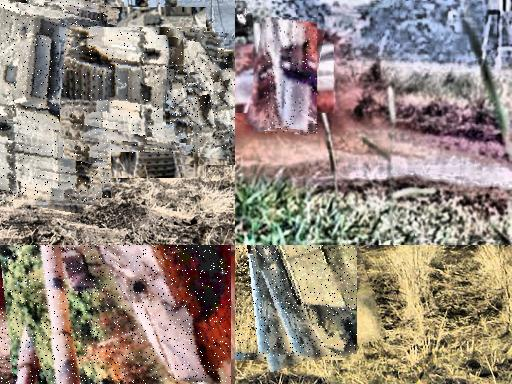tanks: (37, 246, 232, 384), (60, 28, 230, 154), (1, 10, 111, 203), (272, 246, 357, 358), (264, 19, 317, 134), (165, 76, 236, 126), (237, 14, 253, 27)
